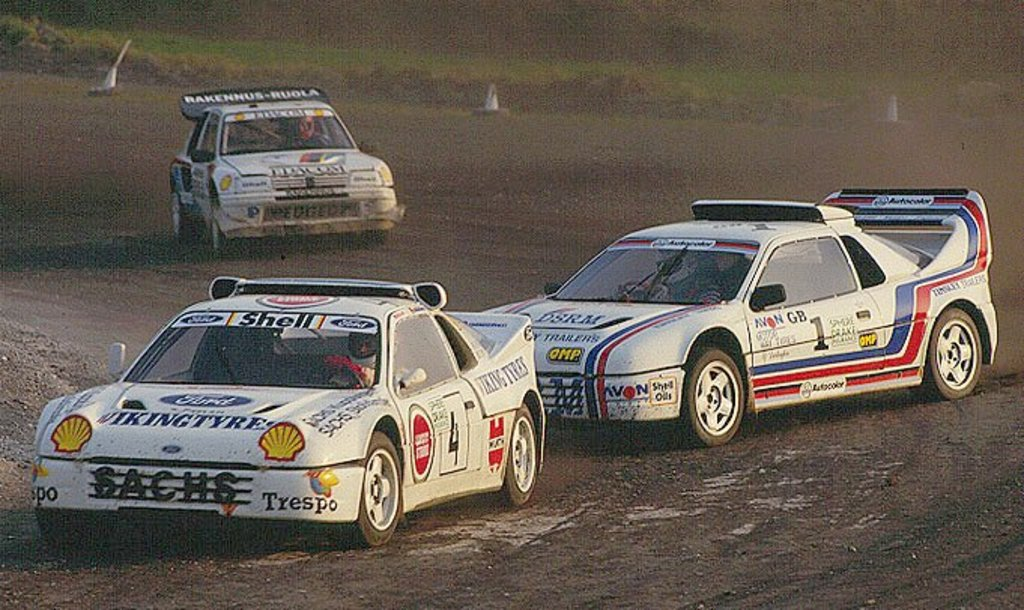Car: (12, 271, 538, 546), (484, 178, 990, 440), (162, 78, 407, 250)
